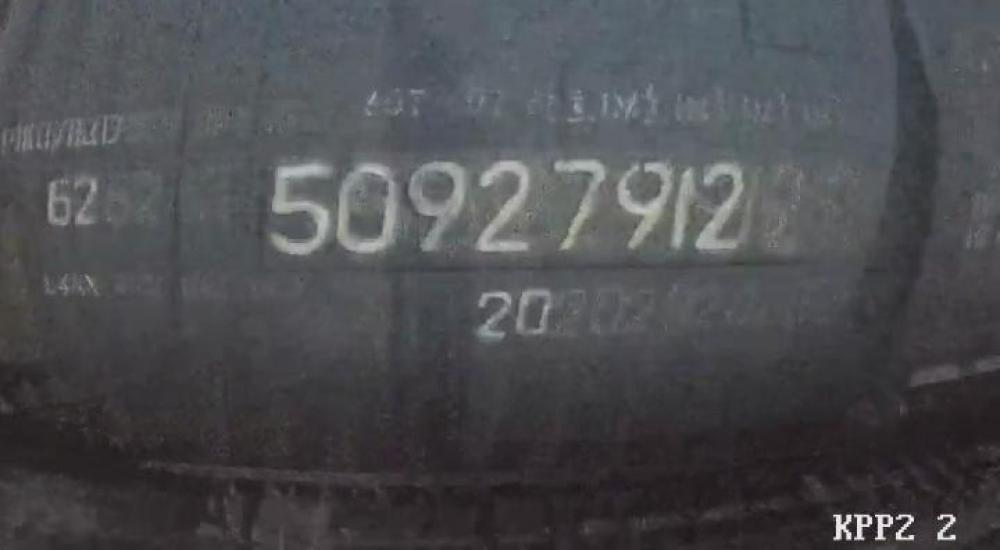Wagon-number: (262, 153, 753, 262)
